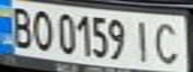0: (54, 10, 75, 55)
1: (72, 11, 93, 57)
5: (90, 13, 109, 60)
9: (106, 15, 130, 61)
B: (3, 2, 36, 50)
C: (148, 19, 187, 66)
I: (127, 17, 157, 64)
O: (27, 7, 57, 52)
